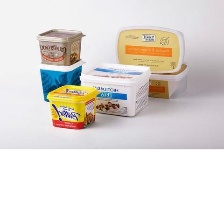plastic_box: (75, 58, 155, 119), (108, 21, 191, 77), (105, 54, 190, 101), (43, 78, 105, 134), (35, 54, 89, 105), (32, 24, 89, 69)
